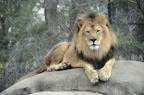lion: (43, 16, 117, 82)
